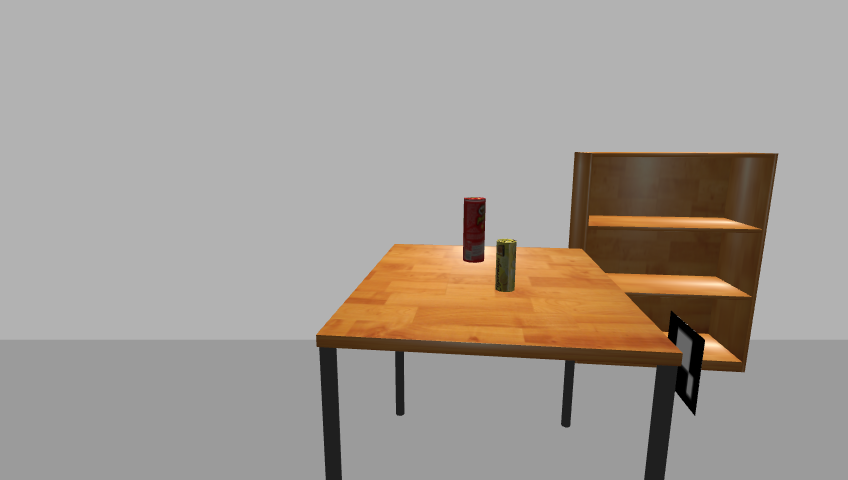aruco marker: (664, 311, 708, 416)
biscuits pack: (495, 238, 518, 293)
bookshelf: (564, 148, 786, 379)
dinner table: (312, 240, 685, 480)
pringles can: (461, 196, 487, 264)
